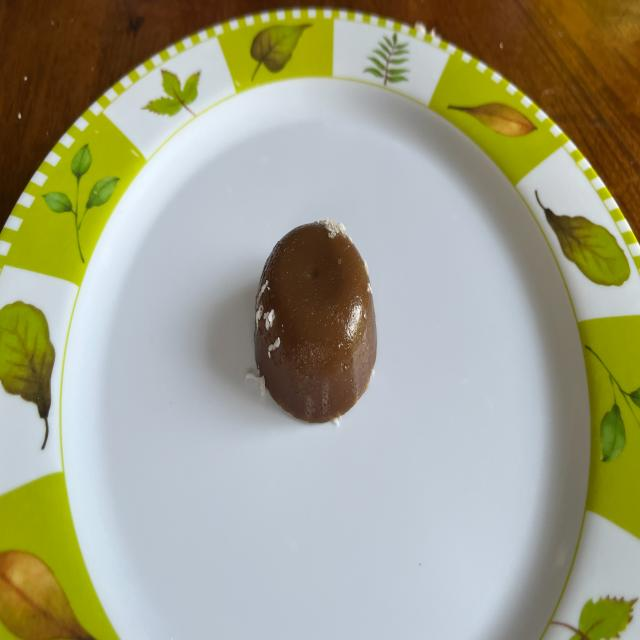Kuih lompang: (255, 218, 376, 422)
